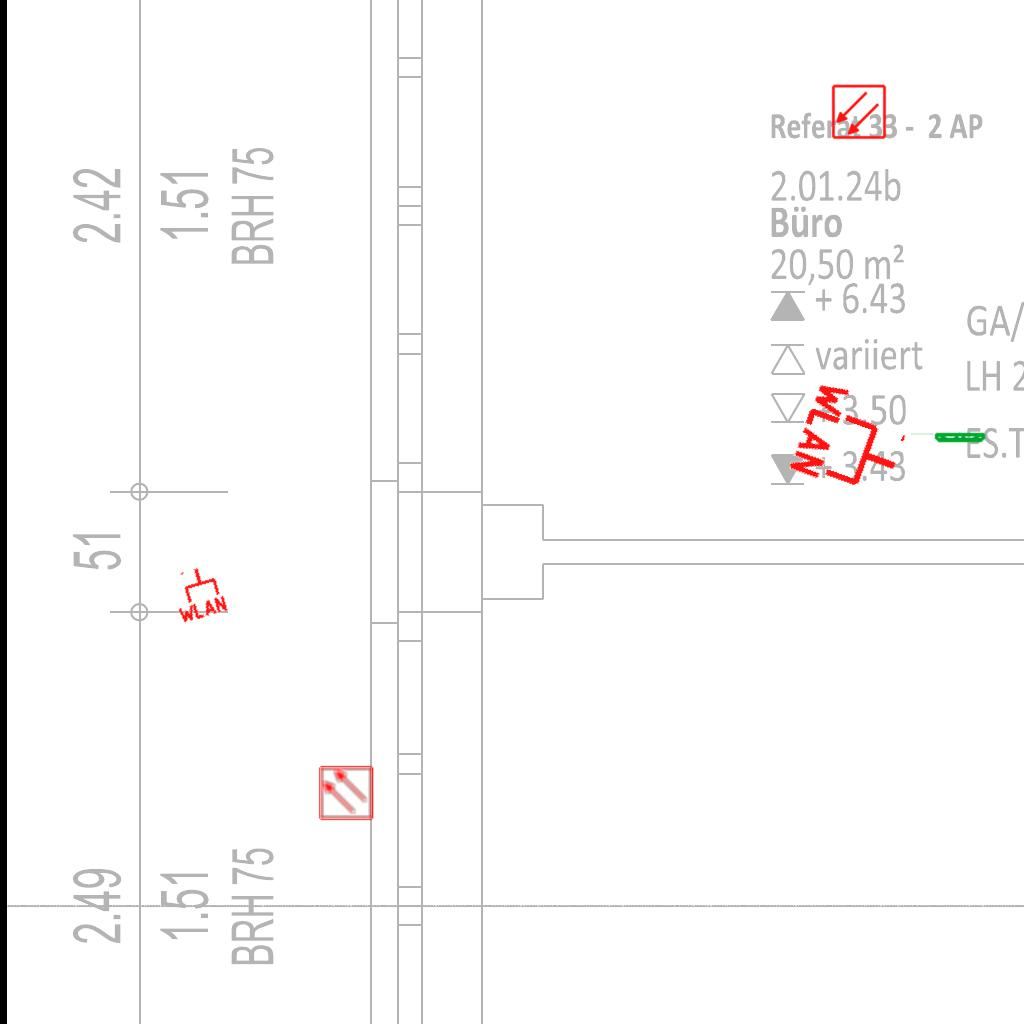RMO_Rauchmelder_optischer: (318, 765, 374, 821), (831, 84, 887, 140)
Sicherheitsleuchte_Wandeinbau: (908, 432, 987, 444)
WLAN: (785, 374, 920, 508), (165, 560, 231, 626)
